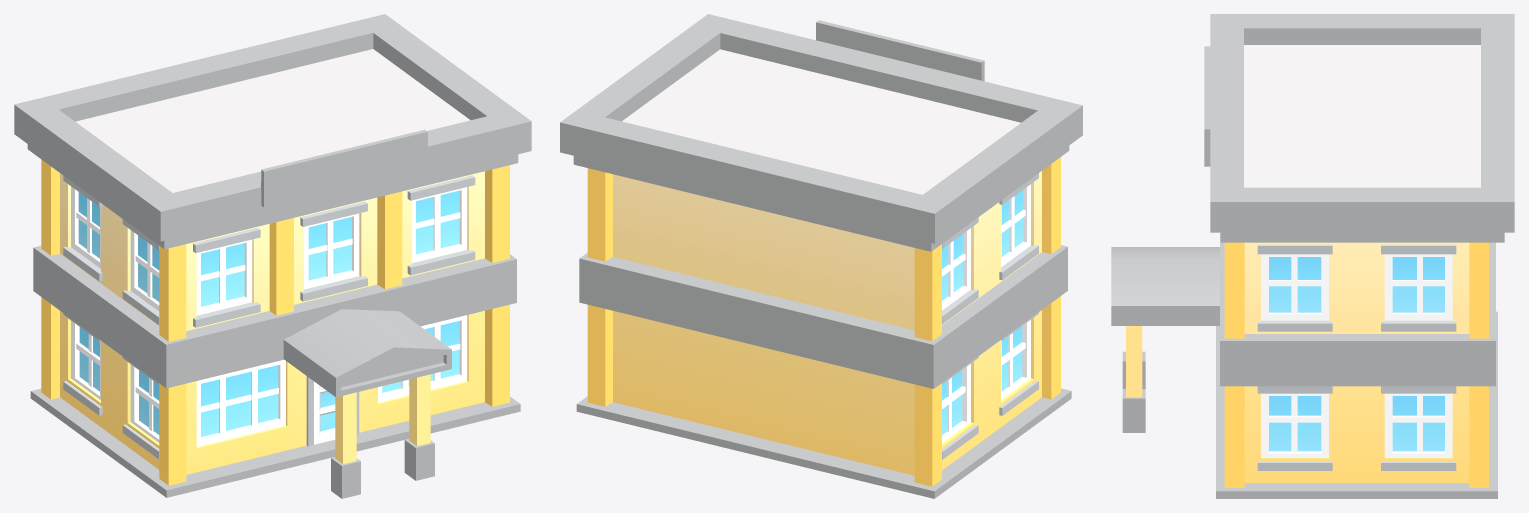
File: city2-building-living-31.glb
3 renders of one model, left to right at view 1: azimuth 30°, elevation 25°; view 2: azimuth 150°, elevation 25°; view 3: azimuth 270°, elevation 25°, orthographic. The views are drawn at different scales.
Parts seen in each view (by area): view 1: Building_Living_31; view 2: Building_Living_31; view 3: Building_Living_31.
Boxes of the visible parts, x1,y1,x2,y2 form: Building_Living_31: (14,14,531,498); Building_Living_31: (560,14,1082,498); Building_Living_31: (1111,14,1514,498).
Size of the model in its own units: 10.33 by 8.2 by 9.38.
1 material, 1 textured.
